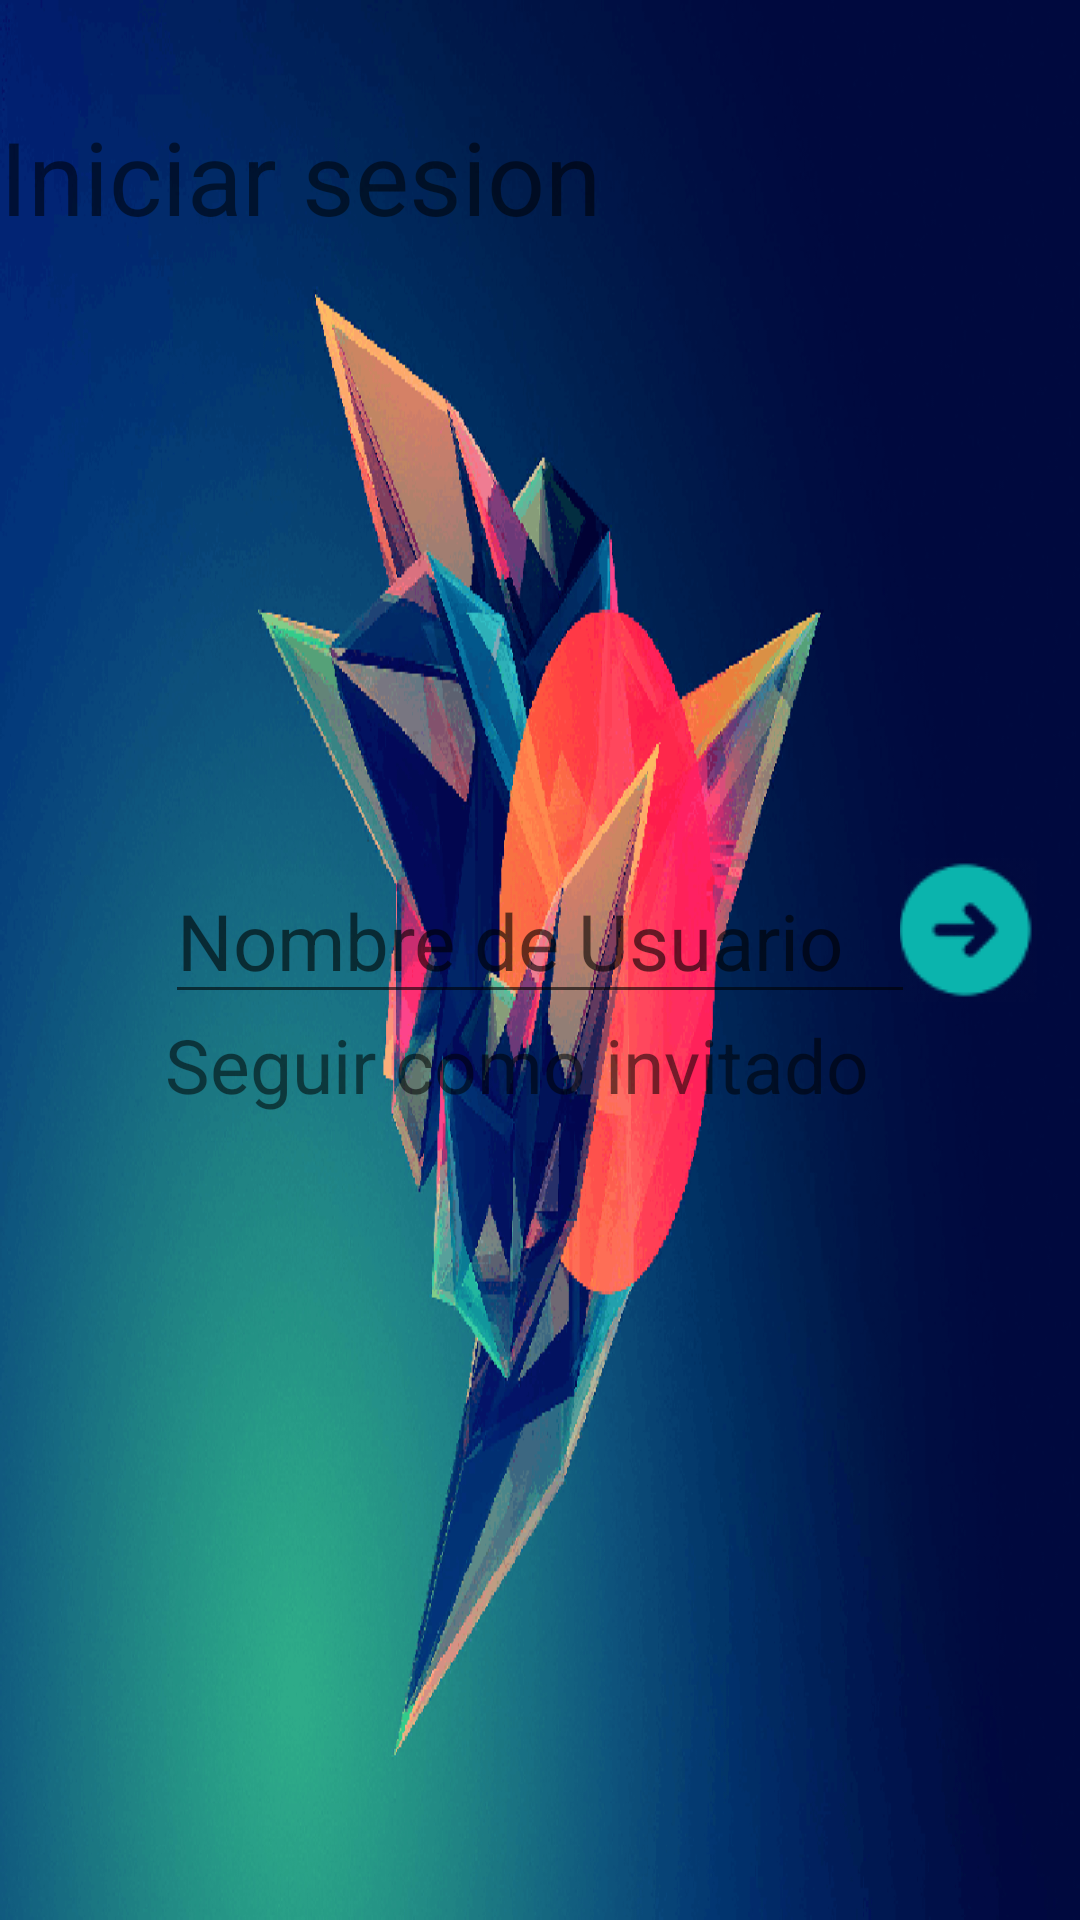

Point at icon controls on the screen. Image size 1080px x 1920px, points as [x,y].
next: [966,930]
